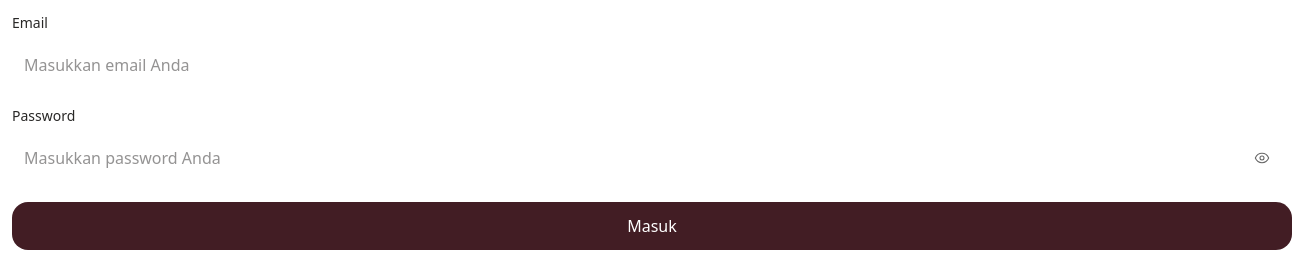
Test case: LoginForm hydration security › disables repeated submission while NextAuth sign-in is pending
Type "synthetic@example.test" into the field labelled "Email". click: {"x": 652, "y": 65}
box: [12,41,1292,89]
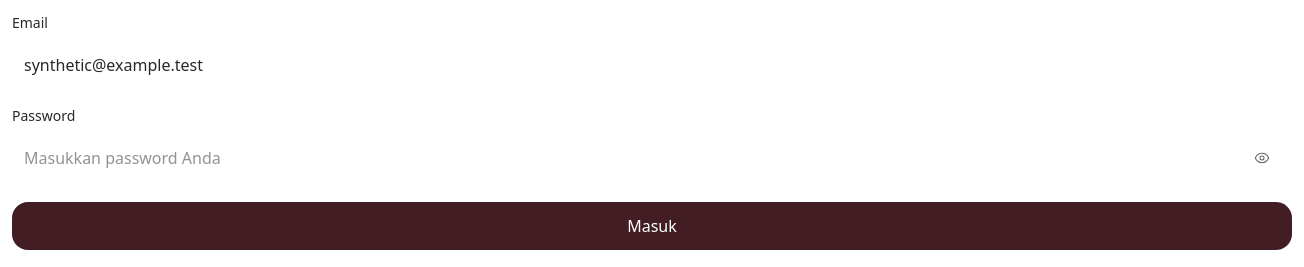
Type "synthetic-test-password" into the password field labelled "Password". click: {"x": 652, "y": 158}
box: [12,134,1292,182]
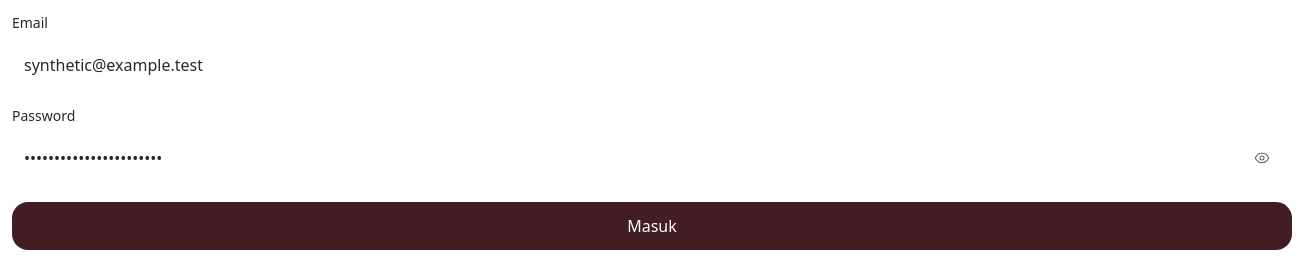
Submit the form "Masuk"
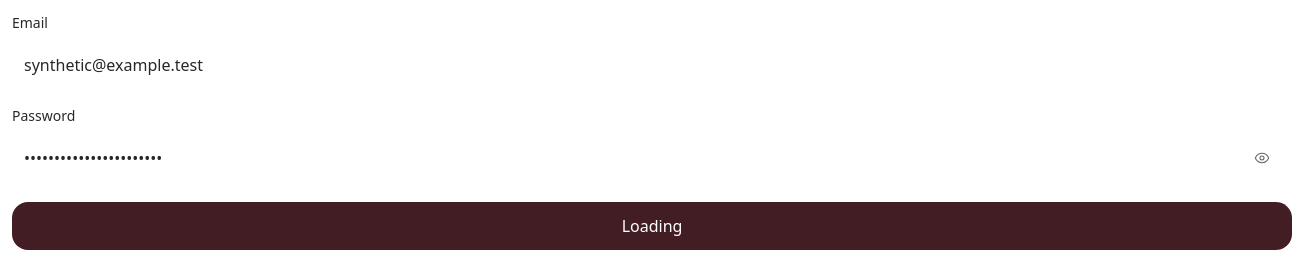
Expected: the button "Loading" is disabled, [12,202,1292,250]
Submit the form named "Masuk"
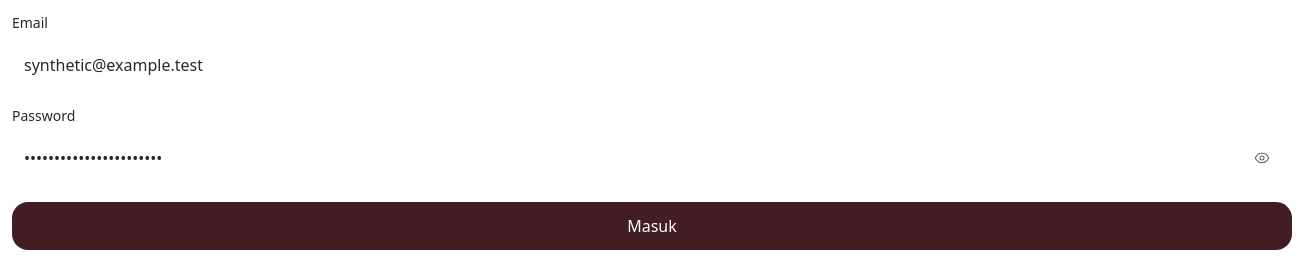
Expected: the button "Masuk" is enabled, [12,202,1292,250]
